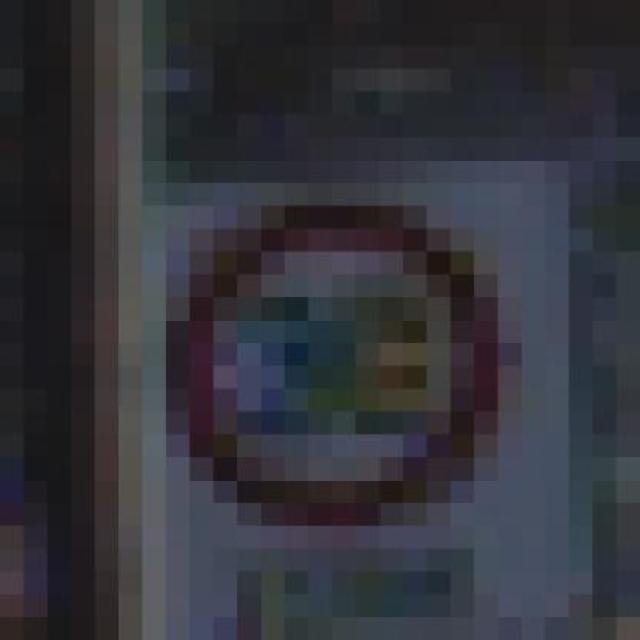Speed Limit 30 KMPh: (118, 182, 545, 548)
